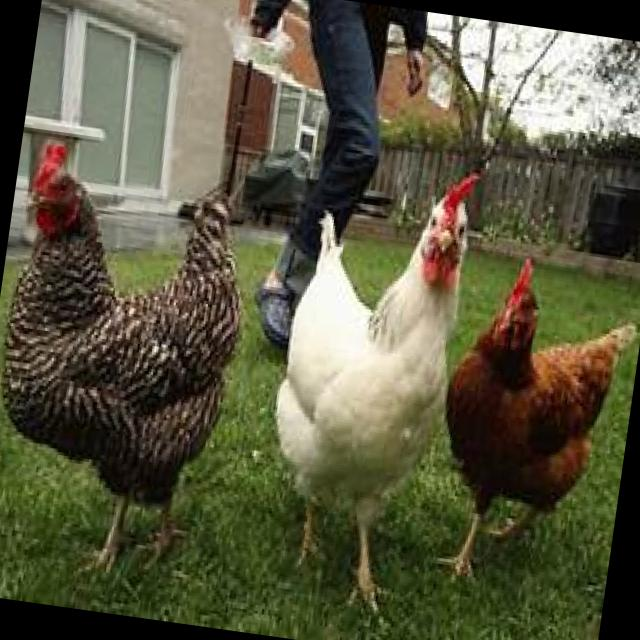chicken: (0, 137, 268, 592), (248, 144, 486, 622), (422, 244, 640, 598)
